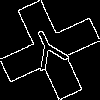Y: (25, 25, 74, 80)
